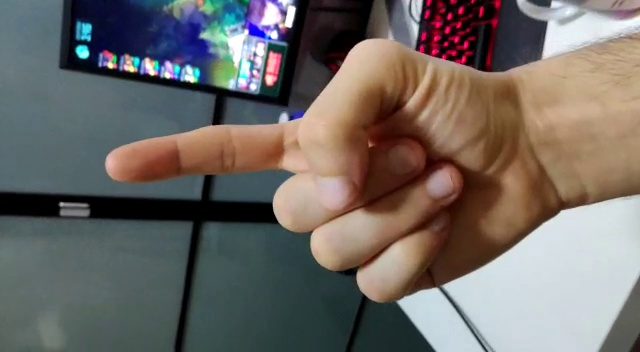One: (88, 77, 365, 205)
